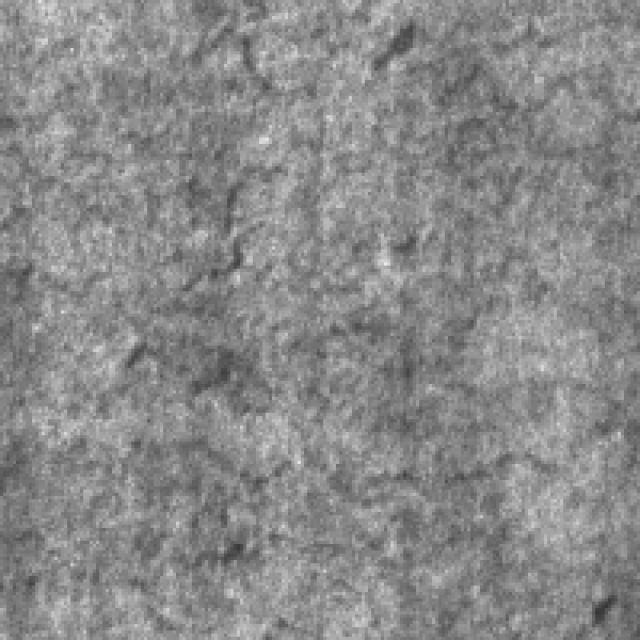crazing: (3, 16, 266, 314), (3, 426, 493, 570), (243, 330, 634, 502)
